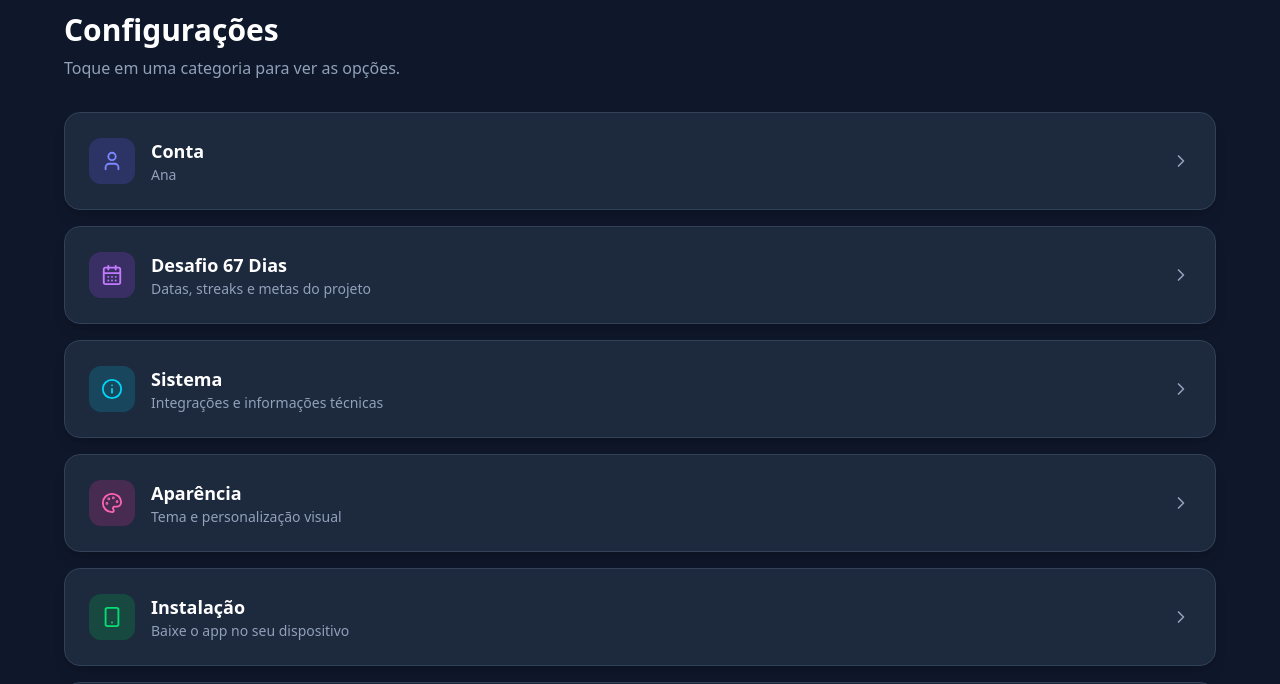
it: SettingsView - Desafio 67 Dias › shows the local start date in the input (not the UTC date)
The width and height of the screenshot is (1280, 684).
Click the button "Desafio 67 Dias Datas, streaks e metas do projeto" at (112, 275), box 65,227 -> 1215,323
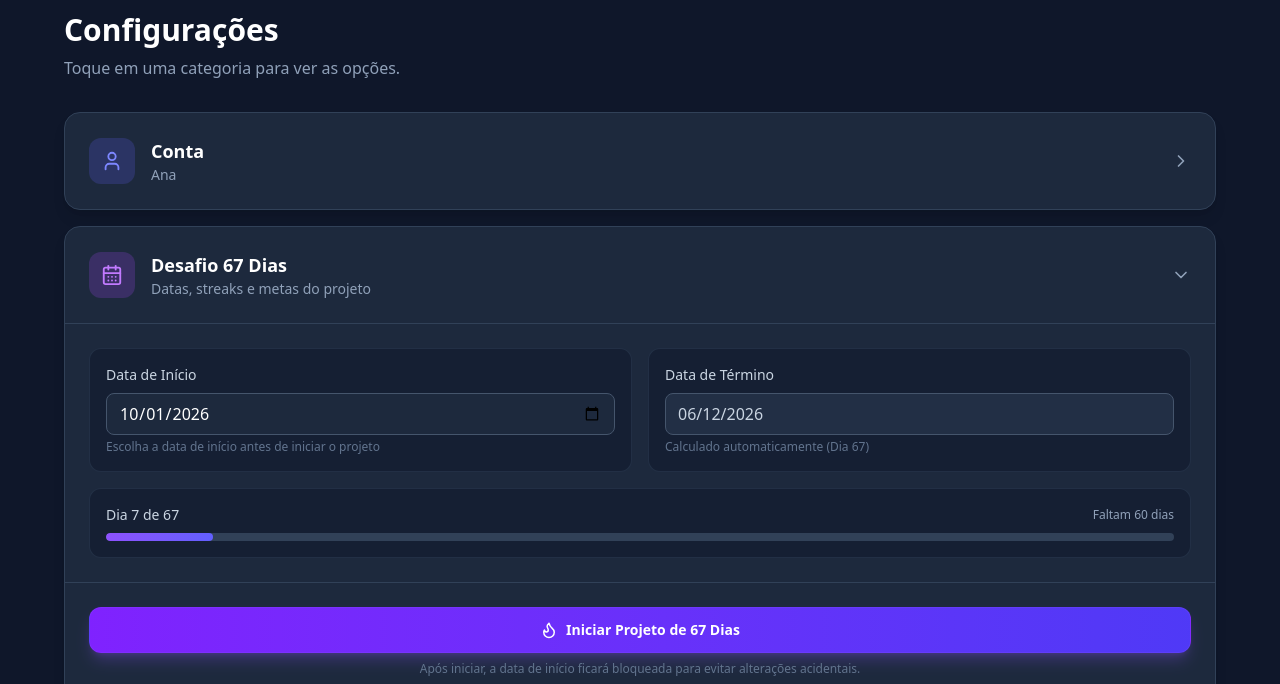
Check: the date field named "Data de início" holds "2026-10-01", box 106,393 -> 615,435
